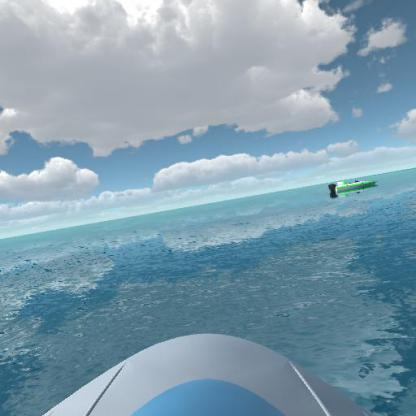usv0: (327, 173, 379, 200)
